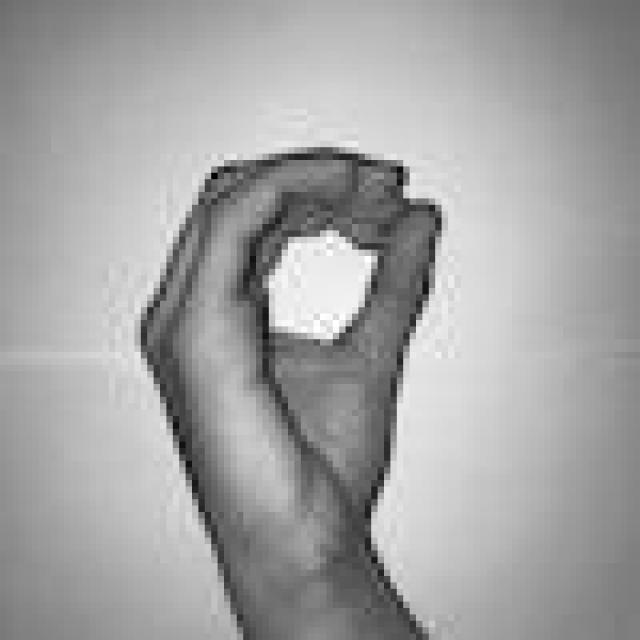O: (131, 141, 451, 563)
